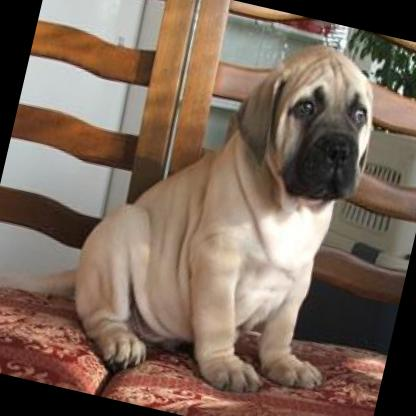bull_mastiff: (0, 0, 399, 412)
